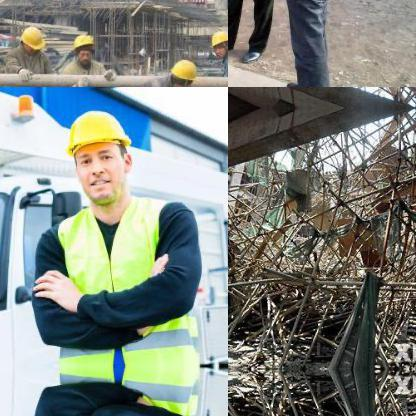Helmet: (62, 105, 134, 202), (167, 54, 199, 86), (70, 29, 94, 63), (17, 23, 43, 53), (207, 26, 227, 56)
